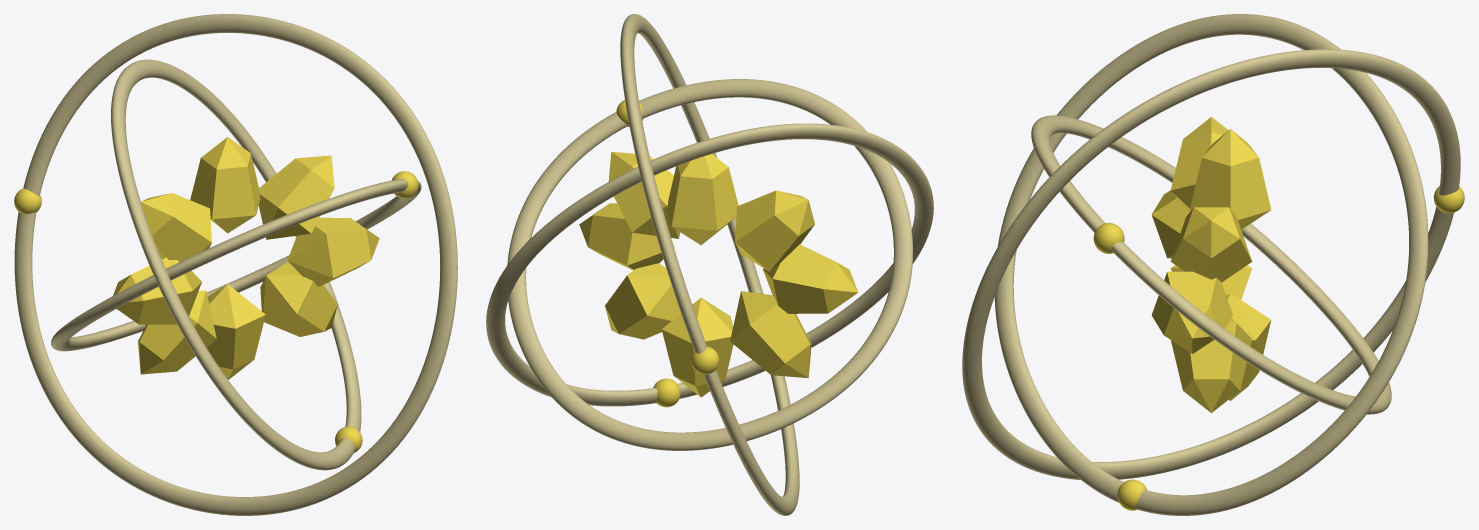
3 views of the same model, side by side, from view 1: azimuth 30°, elevation 25°; view 2: azimuth 150°, elevation 25°; view 3: azimuth 270°, elevation 25° (orthographic). The views are drawn at different scales.
Bounding box in the file's own units: 0.9472 × 1.11 × 1.05.
